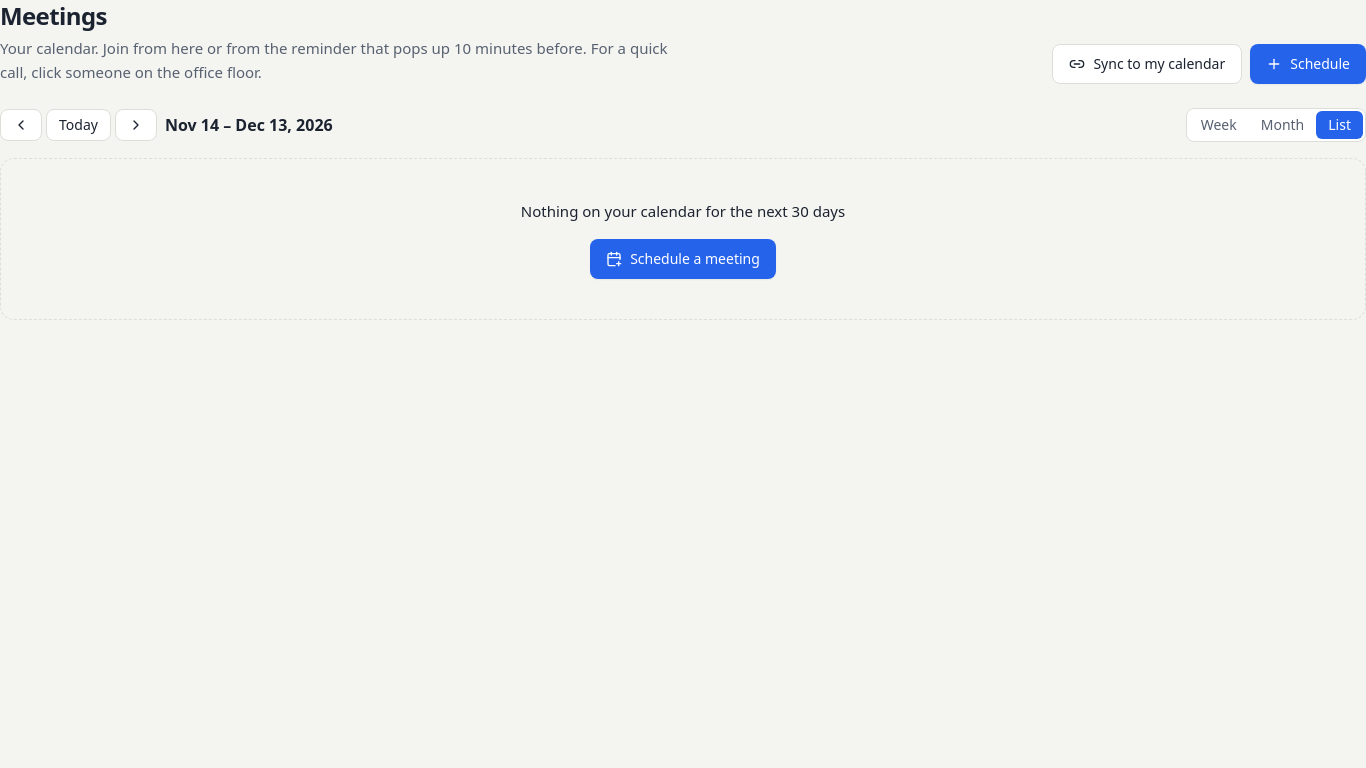
Meetings page › needs a title
Click the button "Schedule".
click(1308, 64)  # box x1=1250 y1=44 x2=1365 y2=84
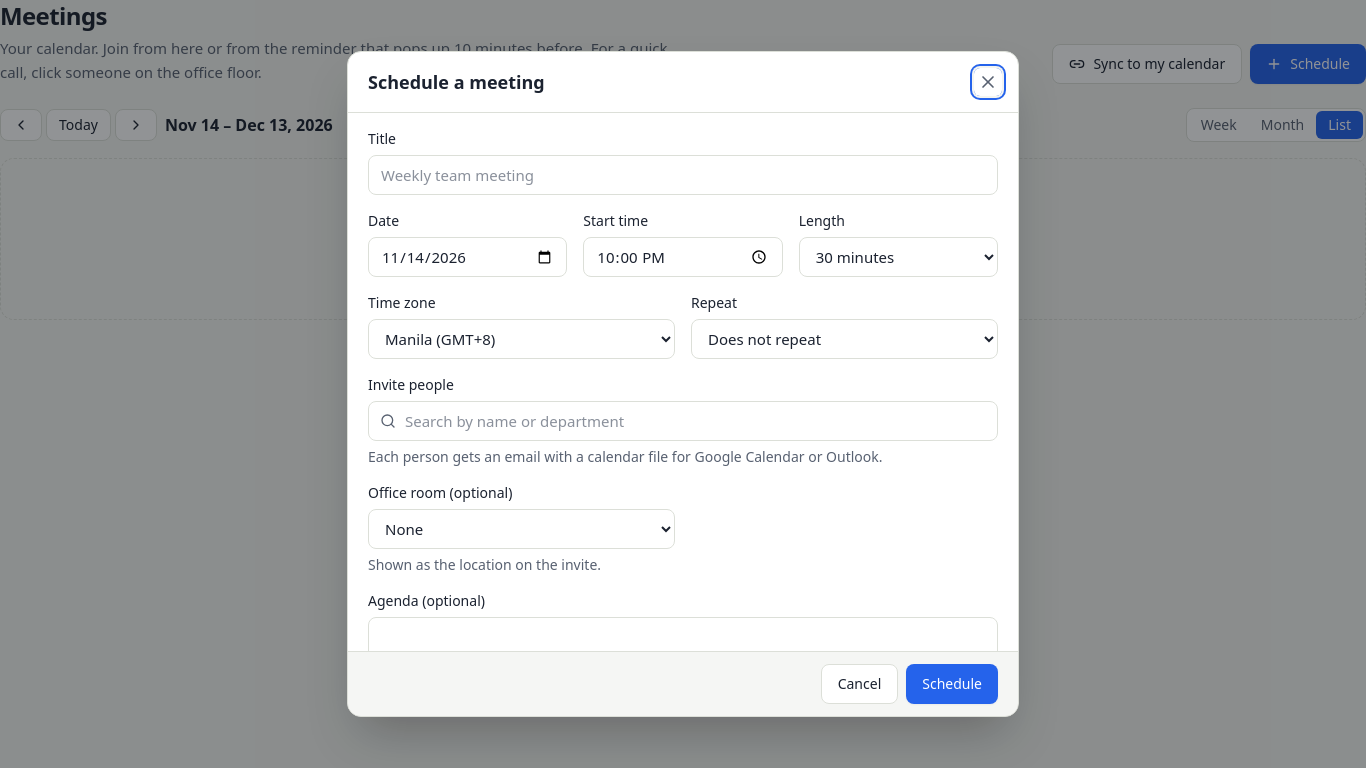
Click the button "Schedule".
click(952, 684)  # box x1=906 y1=664 x2=998 y2=704
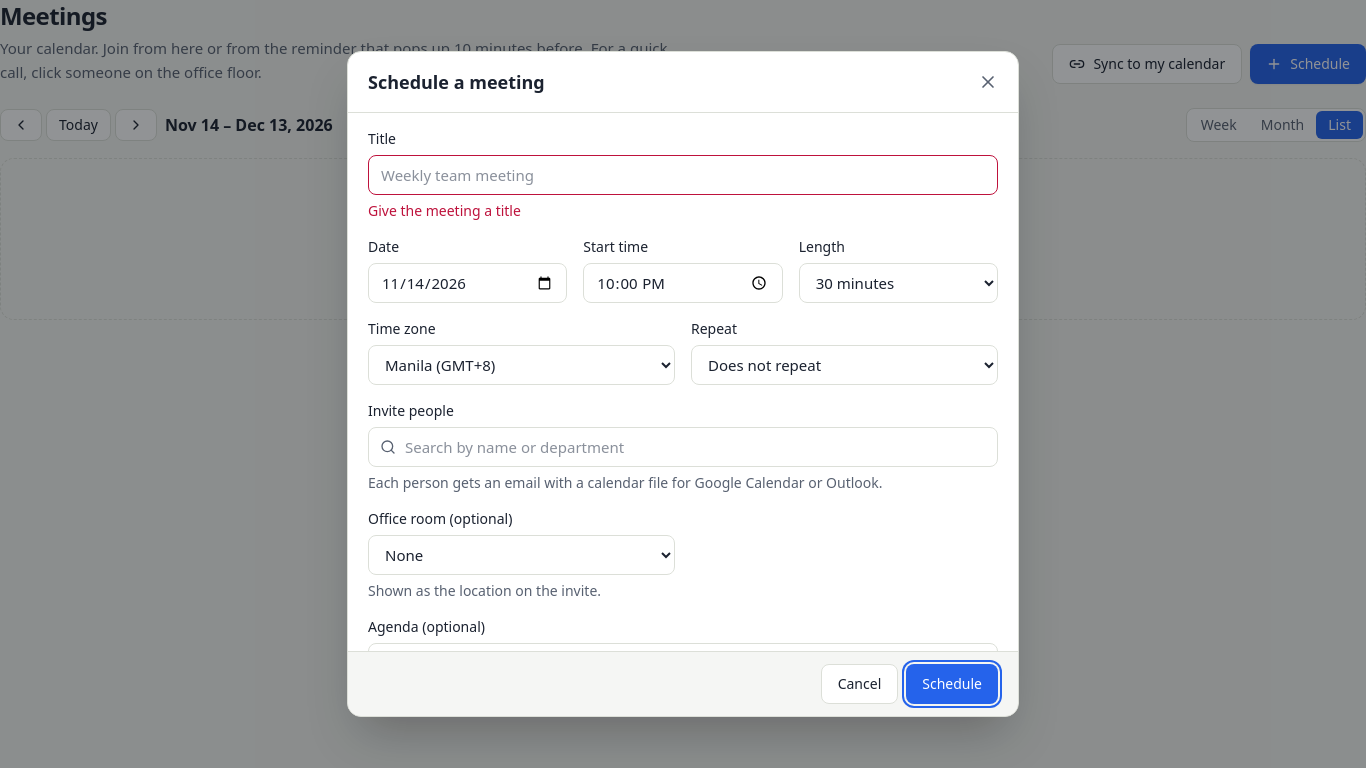
Result: the text "Give the meeting a title" is shown at x1=368 y1=201 x2=521 y2=220
